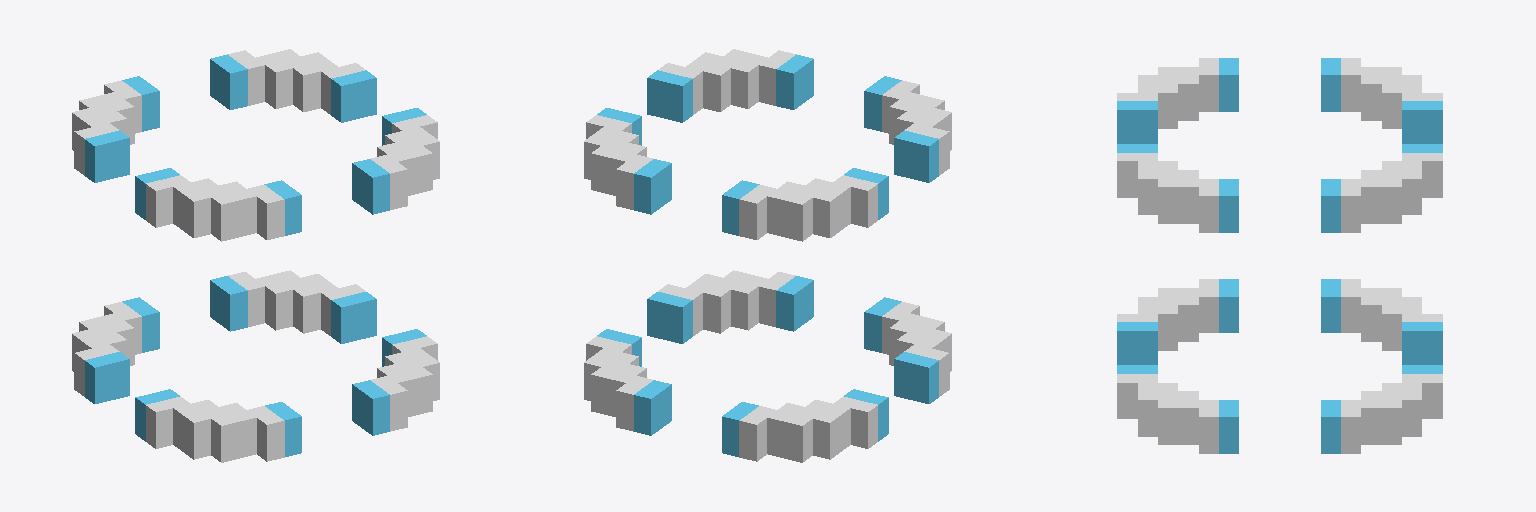
3 renders of one model, left to right at view 1: azimuth 30°, elevation 25°; view 2: azimuth 150°, elevation 25°; view 3: azimuth 270°, elevation 25°, orthographic.
Visible parts, largest first — view 1: rotating_ring; view 2: rotating_ring; view 3: rotating_ring.
Part boxes in pixels (left/top/right/bottom): rotating_ring: left=72, top=49, right=439, bottom=462; rotating_ring: left=584, top=49, right=951, bottom=462; rotating_ring: left=1117, top=58, right=1442, bottom=453.
Bounding box in the file's own units: 1.6 × 1.4 × 1.6.
Materials: 1 (1 with a texture image).